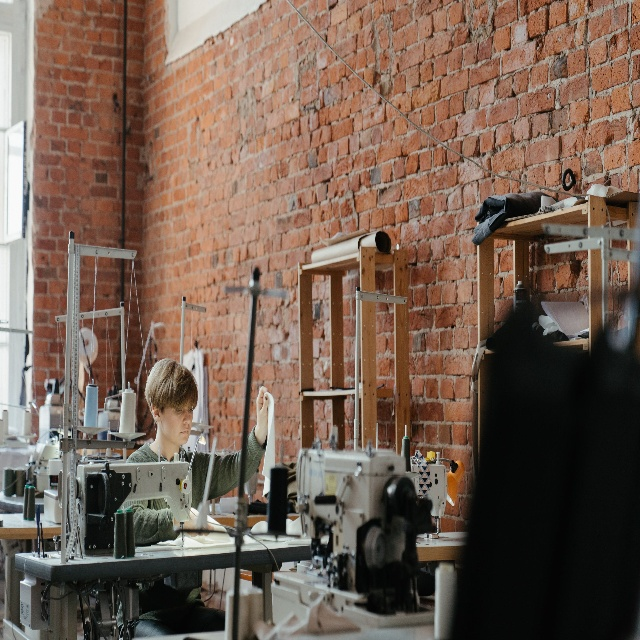Sin_guantes: (256, 385, 268, 437)
